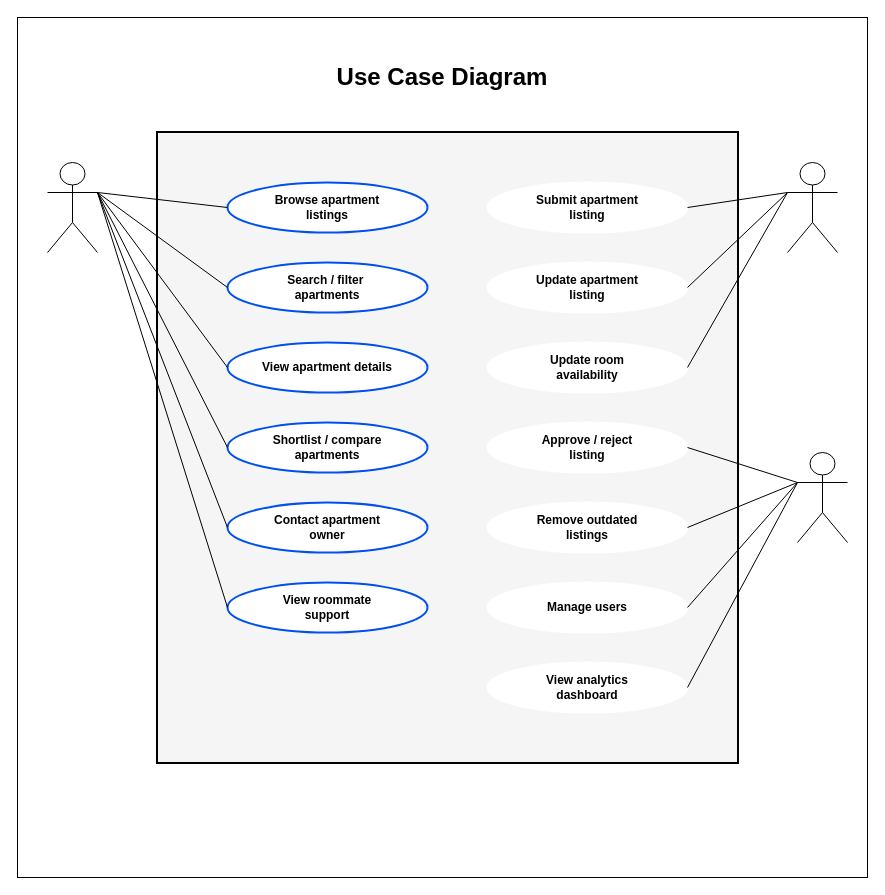
The diagram is 885 pixels wide and 895 high, and some of its shapes have lost their labels. Here are the shapes that lost their labels. From the top down, the box of each, then its label:
(46, 162, 98, 252): Student
(786, 162, 838, 252): Apartment owner
(796, 452, 848, 542): Admin
